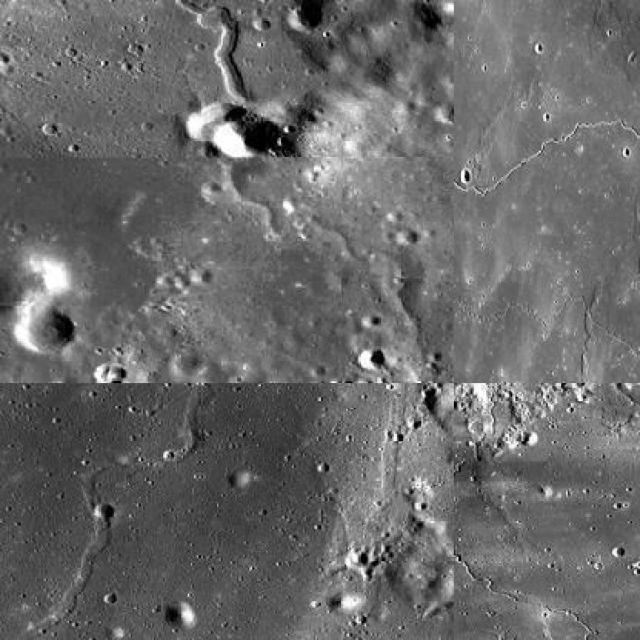rille: (112, 0, 425, 346), (0, 383, 278, 638), (453, 0, 638, 352), (454, 383, 615, 639), (337, 391, 411, 638), (454, 293, 638, 382)
